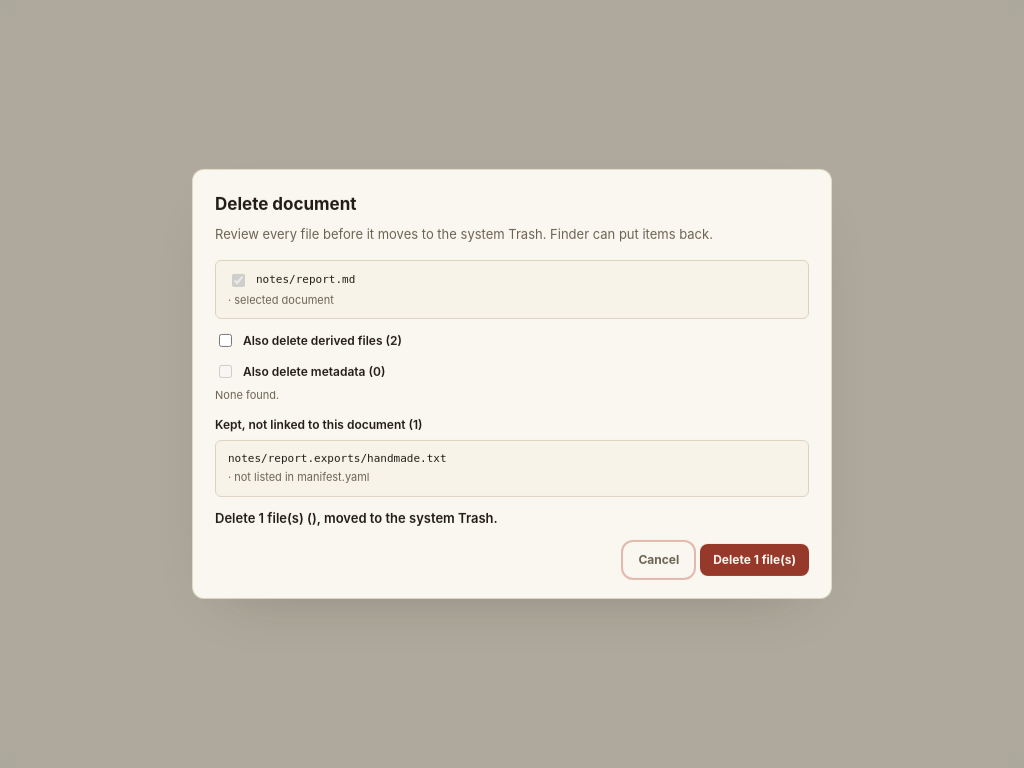
Test: DocumentDeleteDialog › keeps the dialog open with per-item failures
Click the switch labelled "Also delete derived files (2)" at [226, 341], box x1=219 y1=334 x2=232 y2=347
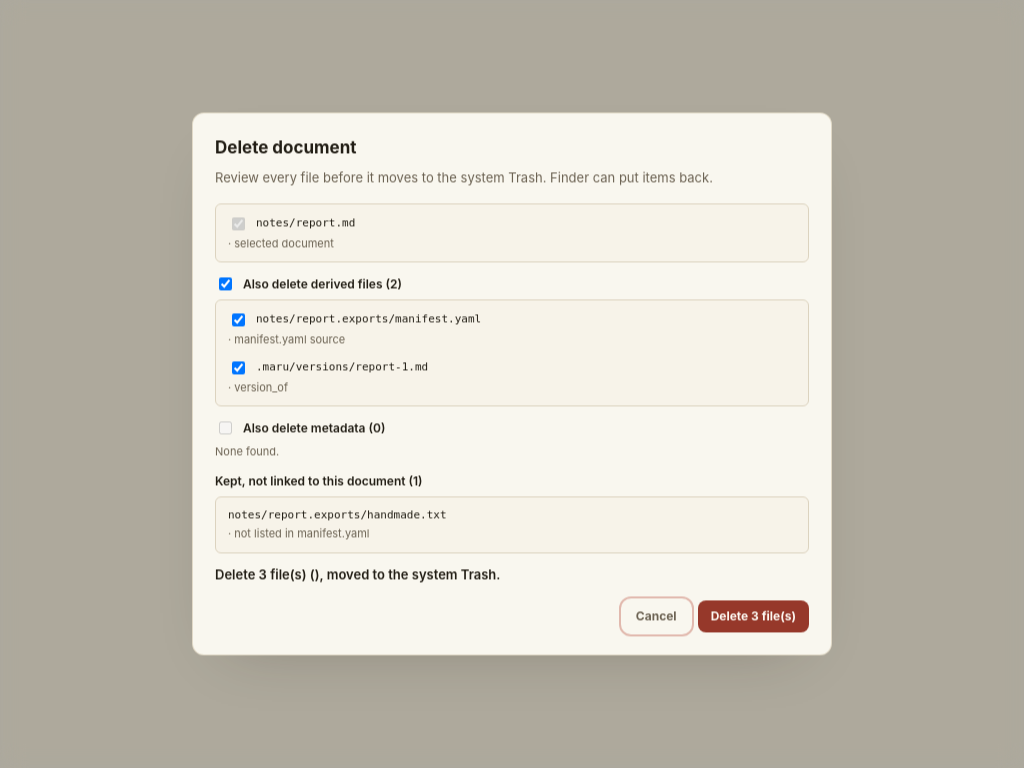
Click the button "Delete 3 file(s)" at [753, 617], box x1=698 y1=601 x2=809 y2=633
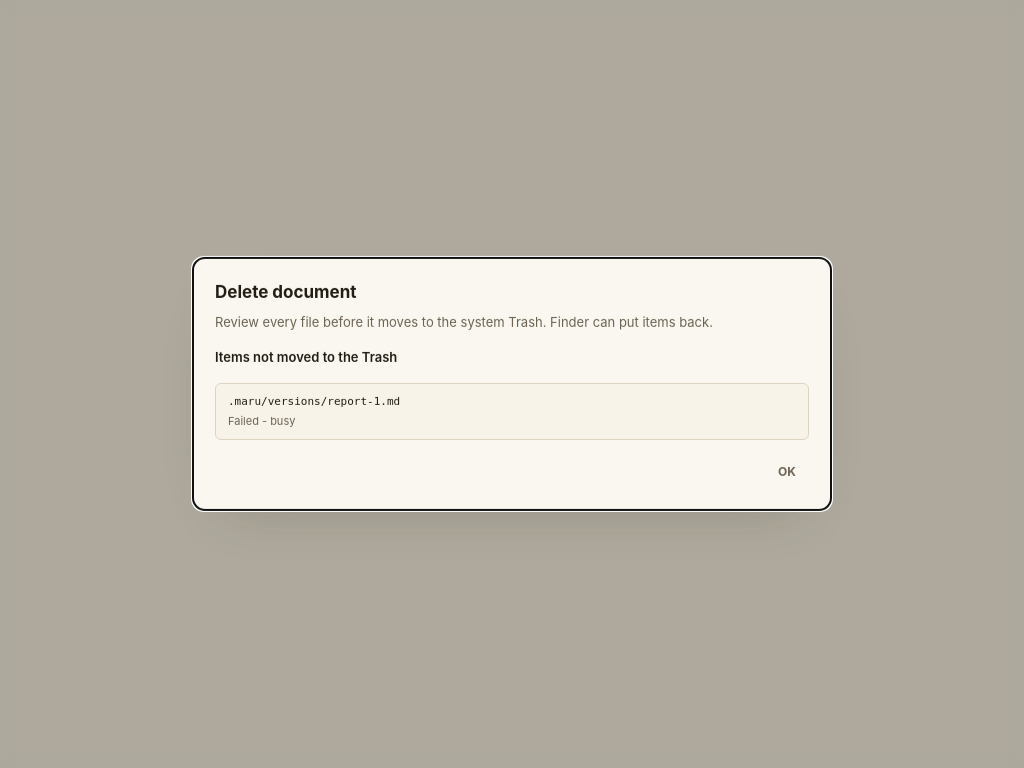
expect the text "Items not moved to the Trash" is shown: met, box x1=215 y1=349 x2=397 y2=365
expect the text "Failed - busy" is shown: met, box x1=228 y1=414 x2=295 y2=428
